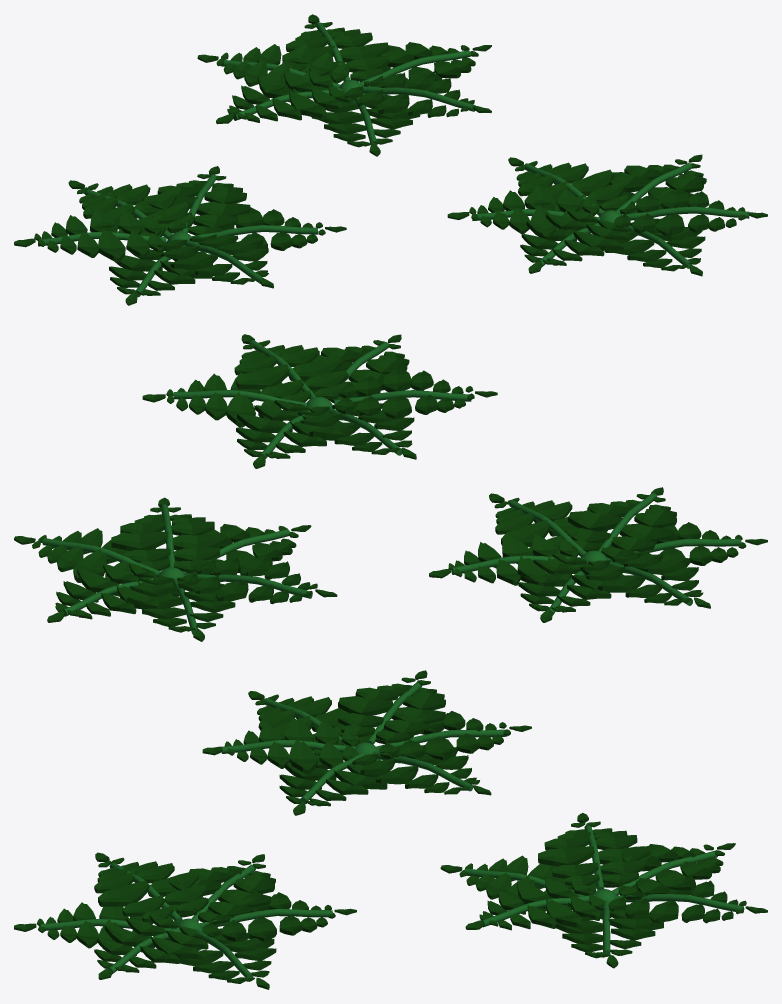
Rendered from Ferns Medium.fbx.
The picture shows the model from 3 angles, top to bottom: view 1: azimuth 30°, elevation 25°; view 2: azimuth 150°, elevation 25°; view 3: azimuth 270°, elevation 25°; orthographic projection. The views are drawn at different scales.
Visible parts, largest first — view 1: VineLeaf.035; view 2: VineLeaf.035; view 3: VineLeaf.035.
Part boxes in pixels (<box>): VineLeaf.035: <box>14,14,767,305</box>; VineLeaf.035: <box>14,334,767,641</box>; VineLeaf.035: <box>14,670,767,989</box>.
Bounding box in the file's own units: 828 × 48.9 × 847.
